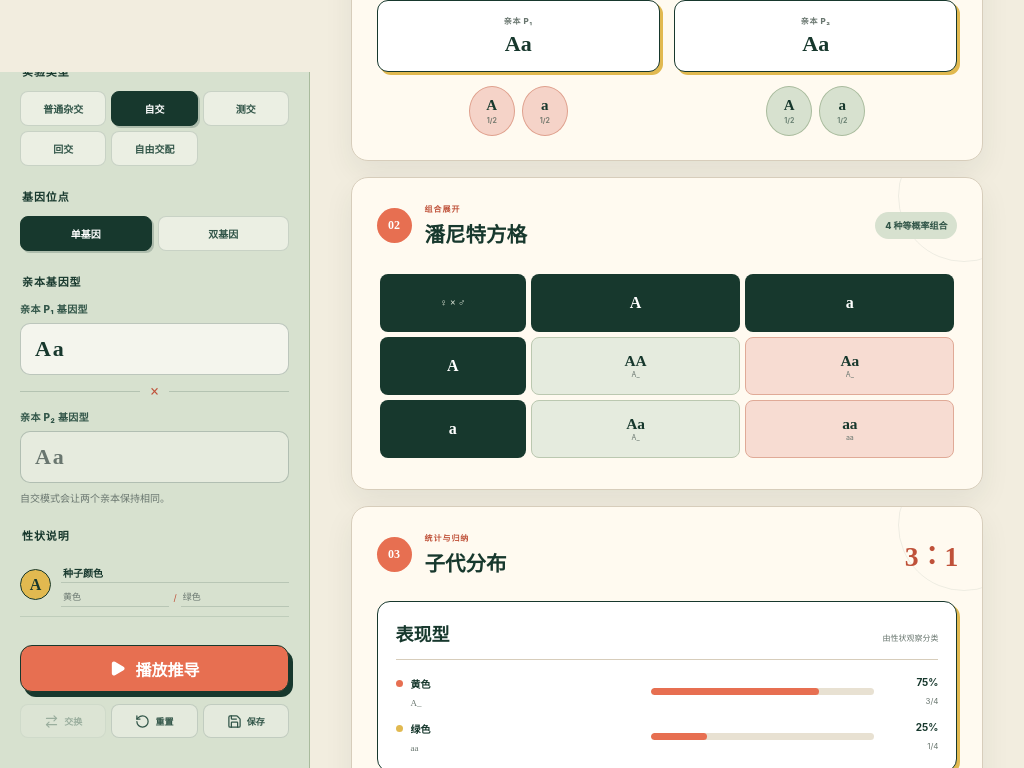
Scenario: LabPage › uses custom phenotype descriptions in the result
(page scrolled)
Replace the text in the field named "A 位点显性表现" with "高茎" at coordinates (115, 597), box [61,587,169,607]
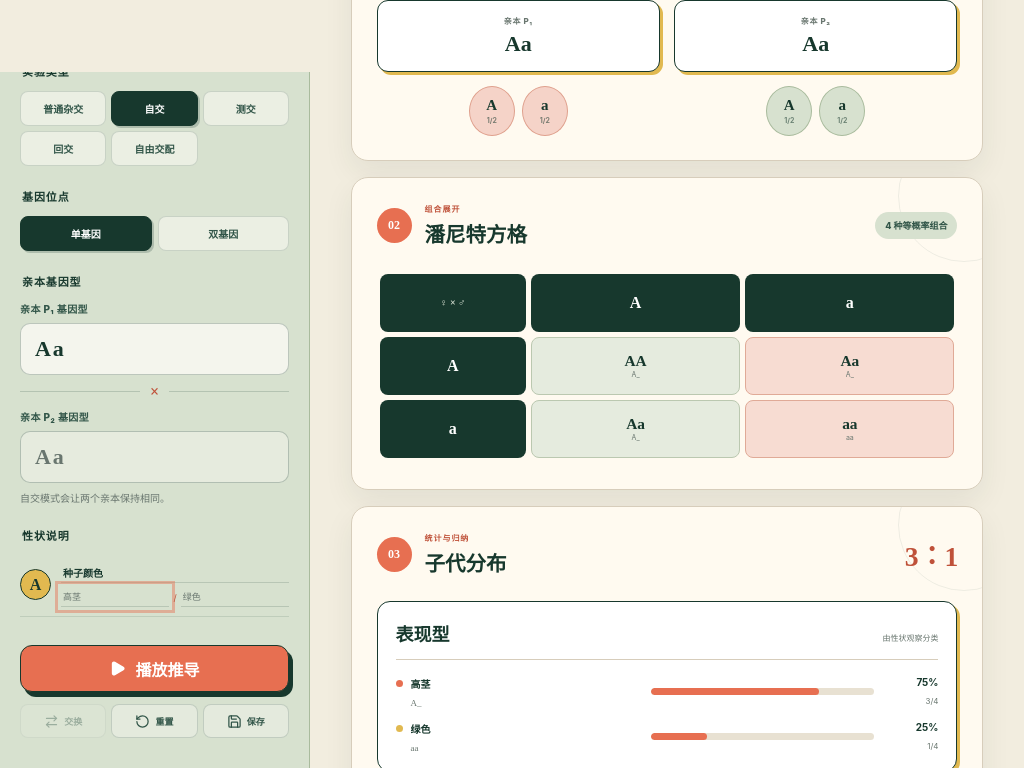
Check: the element with test id "phenotype-A_" shows "高茎", box [410,678,430,690]
